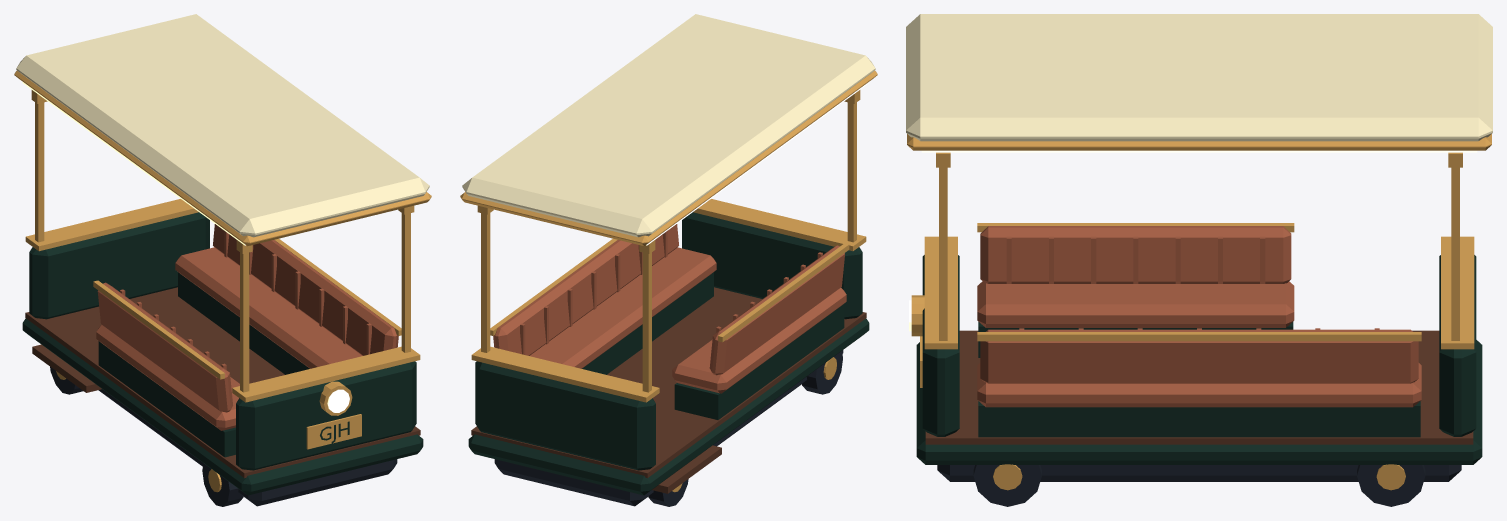
Rendered from balanced.glb.
The picture shows the model from 3 angles, left to right: view 1: azimuth 30°, elevation 25°; view 2: azimuth 150°, elevation 25°; view 3: azimuth 270°, elevation 25°; orthographic projection. The views are drawn at different scales.
Visible parts, largest first — view 1: SightseeingCarriage; view 2: SightseeingCarriage; view 3: SightseeingCarriage.
Boxes of the visible parts, x1=… form: SightseeingCarriage: x1=14, y1=14, x2=431, y2=506; SightseeingCarriage: x1=460, y1=14, x2=877, y2=506; SightseeingCarriage: x1=906, y1=14, x2=1492, y2=506.
Size of the model in its own units: 1.4 by 2.2 by 3.
1 material, 1 textured.
